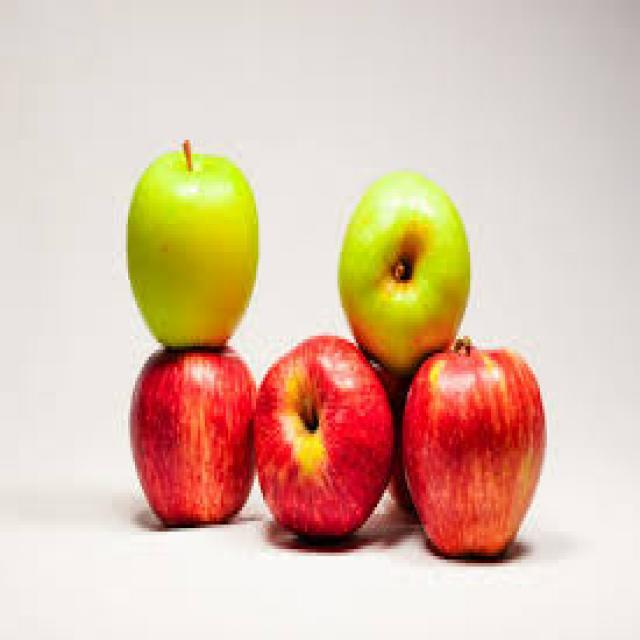Fresh Apple: (395, 342, 555, 572), (93, 343, 267, 535), (252, 338, 398, 564), (128, 130, 264, 352), (338, 177, 478, 373)
